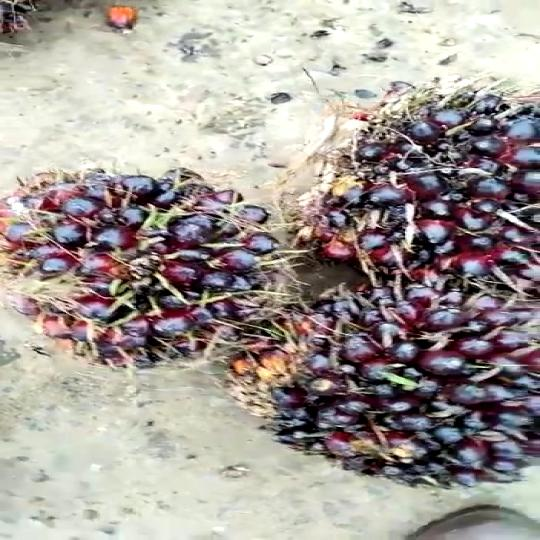mentah: (241, 290, 540, 504), (7, 160, 271, 378), (301, 79, 540, 297)
